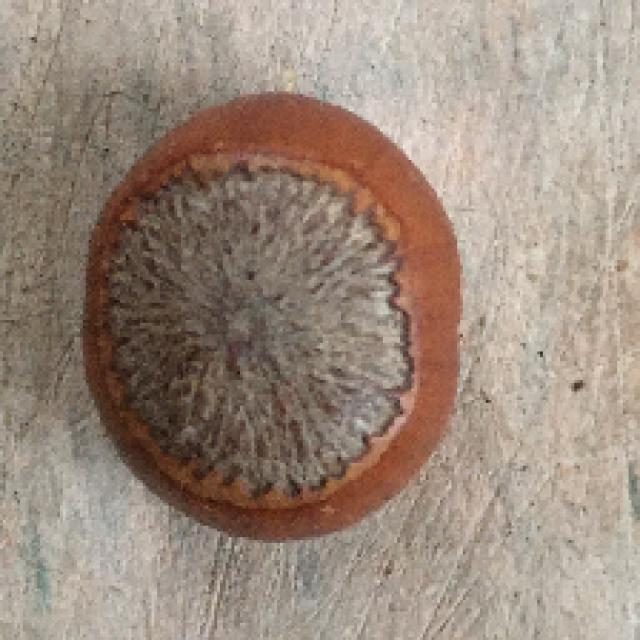qualityHazelnut: (79, 88, 477, 550)
